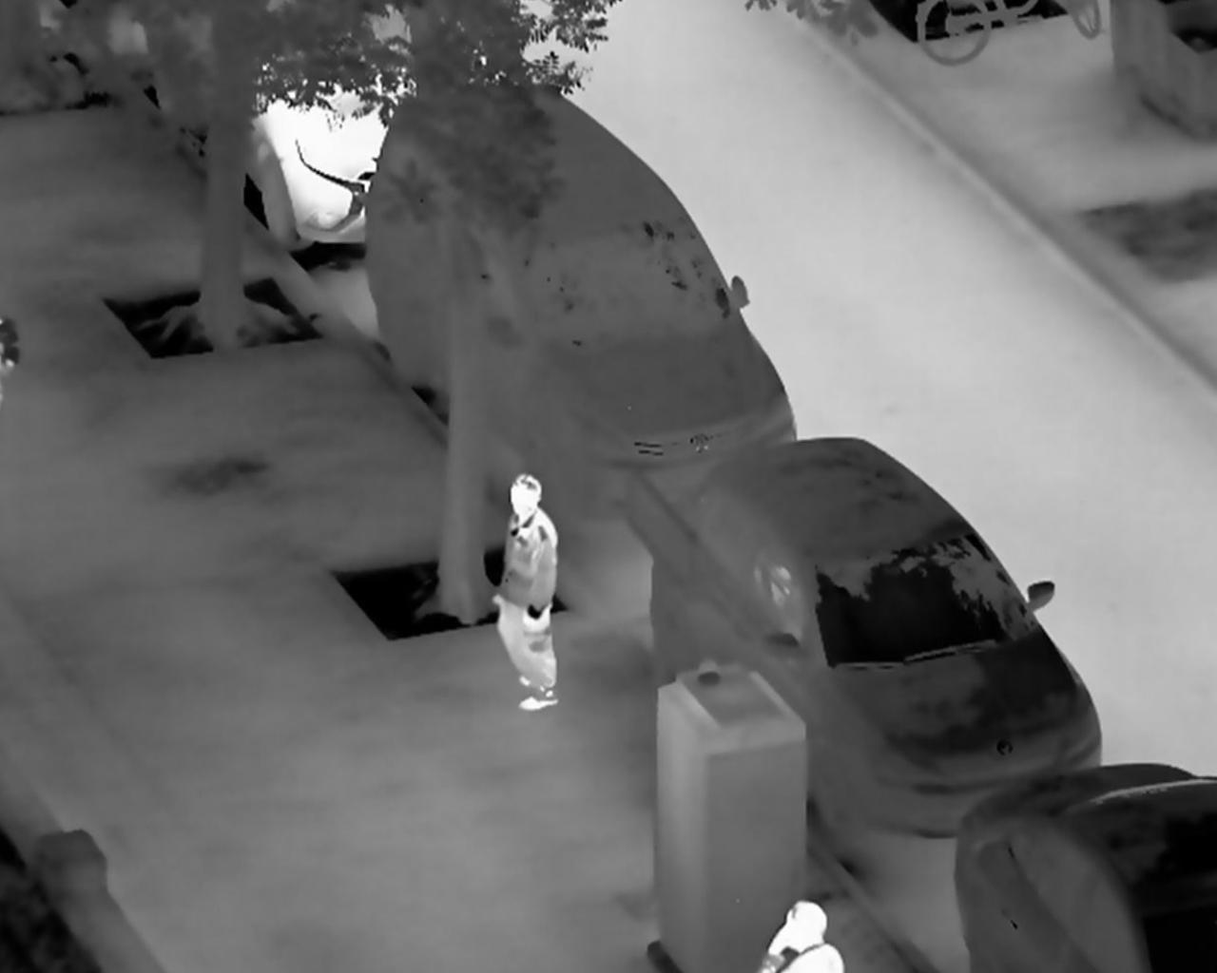person: (491, 472, 566, 714)
